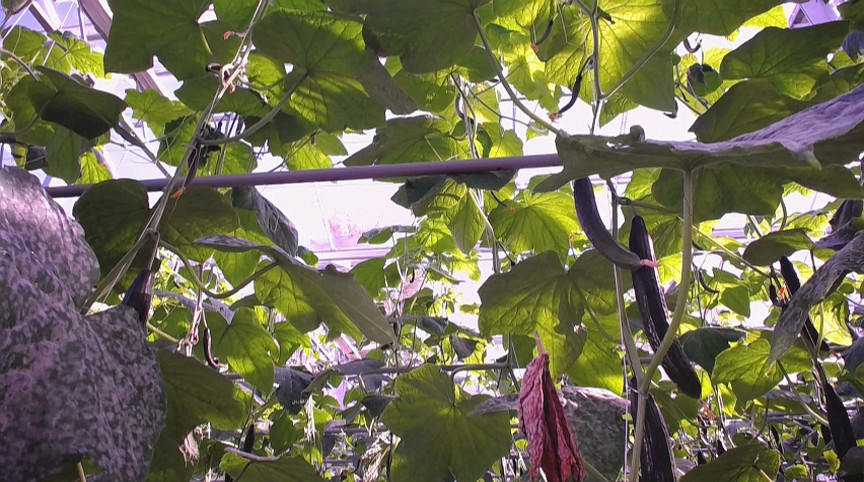cucumber: (628, 216, 700, 400), (573, 174, 642, 271), (630, 380, 678, 482), (781, 256, 829, 352), (823, 387, 858, 455), (118, 270, 154, 321)
